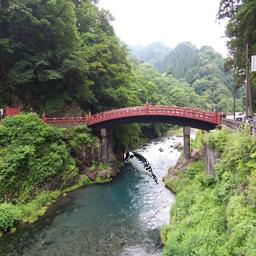Woodpecker: (122, 150, 159, 185)
